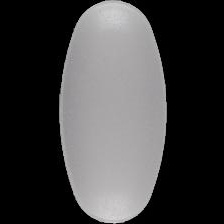53808-0628: (0, 0, 224, 224)
